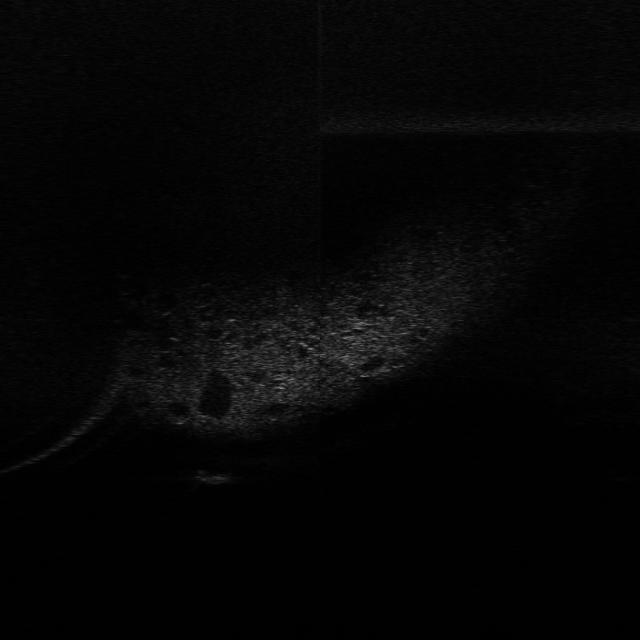cube: (188, 465, 243, 486)
